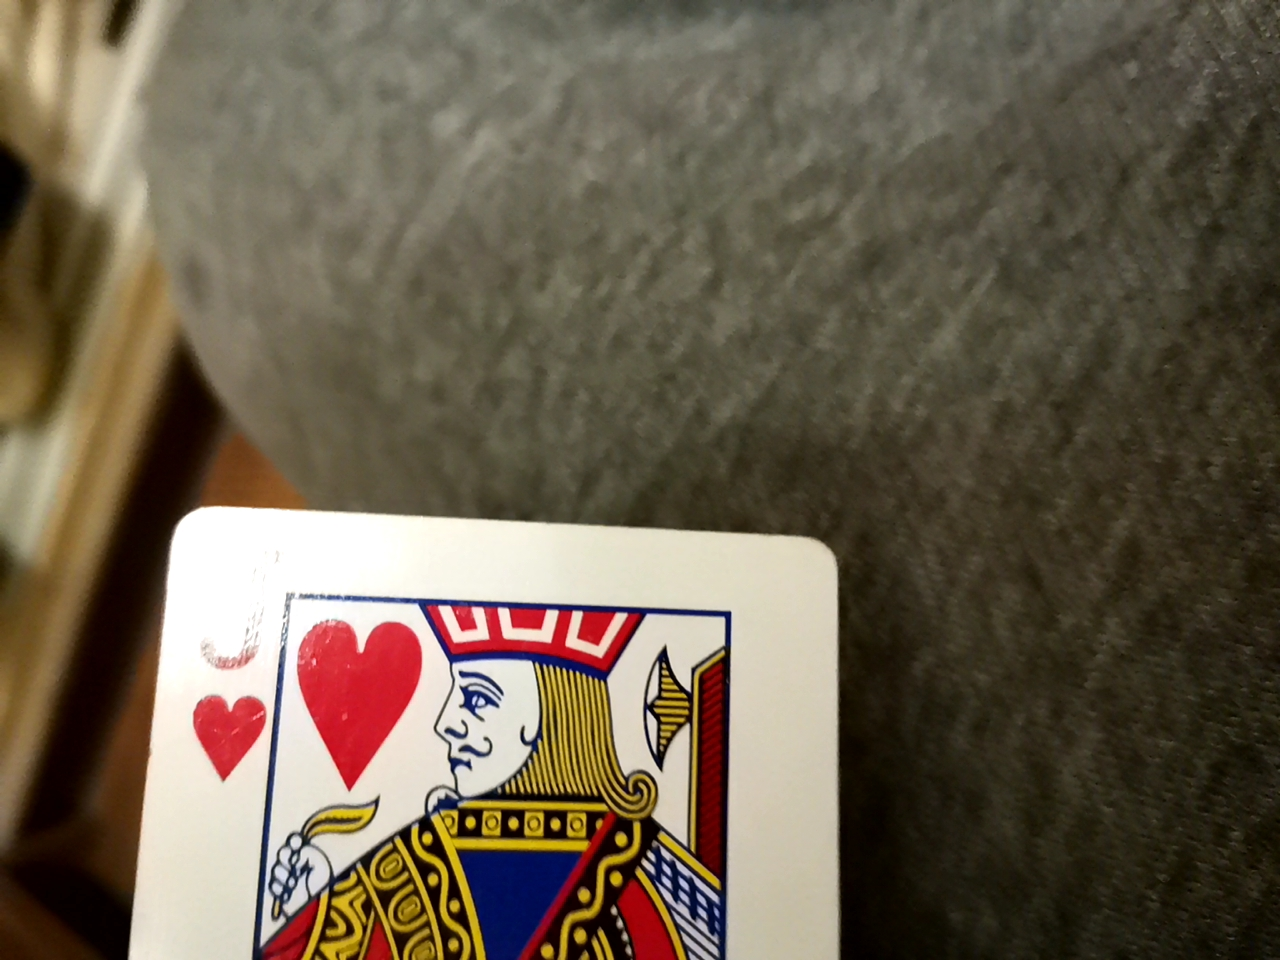hx j: (103, 510, 860, 957)
